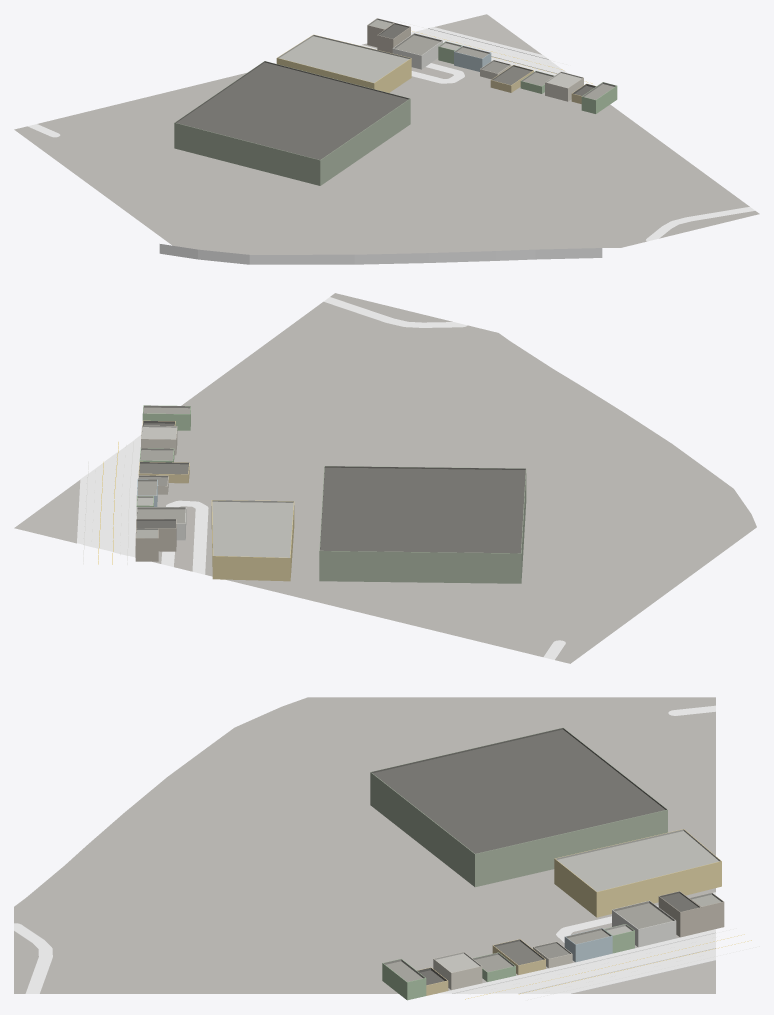
The picture shows the model from 3 angles, top to bottom: view 1: azimuth 30°, elevation 25°; view 2: azimuth 150°, elevation 25°; view 3: azimuth 270°, elevation 25°; orthographic projection. The views are drawn at different scales.
Parts seen in each view (by area): view 1: ground, roofs, walls, coast, asphalt, sidewalk; view 2: ground, roofs, walls, asphalt, sidewalk; view 3: ground, roofs, walls, asphalt, sidewalk, markings.
Boxes of the visible parts, <box> form: ground: <box>14,14,759,254</box>; roofs: <box>174,18,616,160</box>; walls: <box>174,23,617,185</box>; coast: <box>159,244,602,264</box>; asphalt: <box>28,28,754,241</box>; sidewalk: <box>411,27,567,73</box>; ground: <box>14,293,756,663</box>; roofs: <box>135,405,526,557</box>; walls: <box>135,410,526,583</box>; asphalt: <box>83,297,565,659</box>; sidewalk: <box>77,435,141,557</box>; ground: <box>14,697,715,993</box>; roofs: <box>370,727,723,985</box>; walls: <box>370,772,724,1000</box>; asphalt: <box>14,705,715,993</box>; sidewalk: <box>437,929,715,993</box>; markings: <box>457,928,759,1000</box>.
Size of what is drawn, in the model's own units: 260 by 17.99 by 266.
